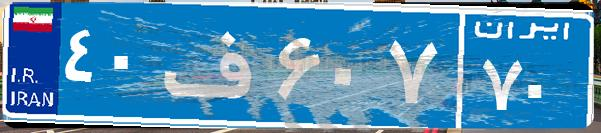0: (330, 28, 385, 110), (110, 28, 158, 105), (525, 38, 570, 115)
4: (57, 26, 110, 107)
6: (273, 28, 330, 110)
7: (385, 28, 445, 110), (475, 38, 525, 113)
ف: (158, 15, 273, 115)
